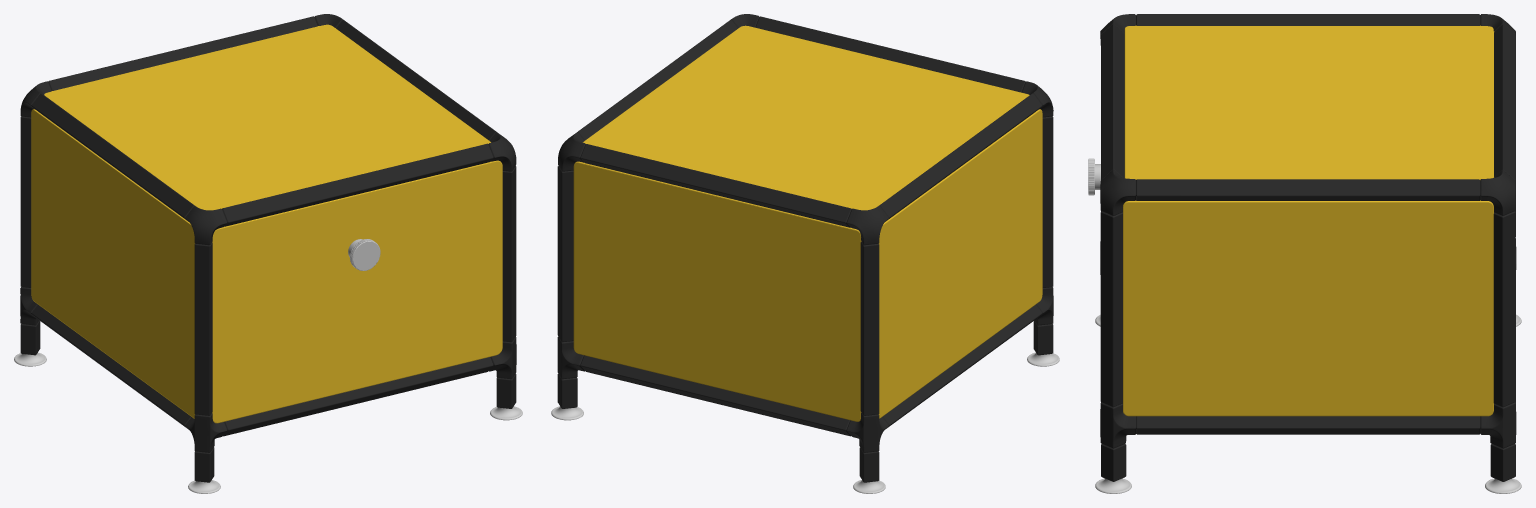
3 views of the same model, side by side, from view 1: azimuth 30°, elevation 25°; view 2: azimuth 150°, elevation 25°; view 3: azimuth 270°, elevation 25° (orthographic). The views are drawn at different scales.
Visible parts, largest first — view 1: 374x374x229; view 2: 374x374x229; view 3: 374x374x229.
Part boxes in pixels (left/top/right/bottom): 374x374x229: left=14, top=14, right=522, bottom=493; 374x374x229: left=551, top=14, right=1059, bottom=493; 374x374x229: left=1088, top=14, right=1521, bottom=493.
Bounding box in the file's own units: 0.464 × 0.3682 × 0.4707.
